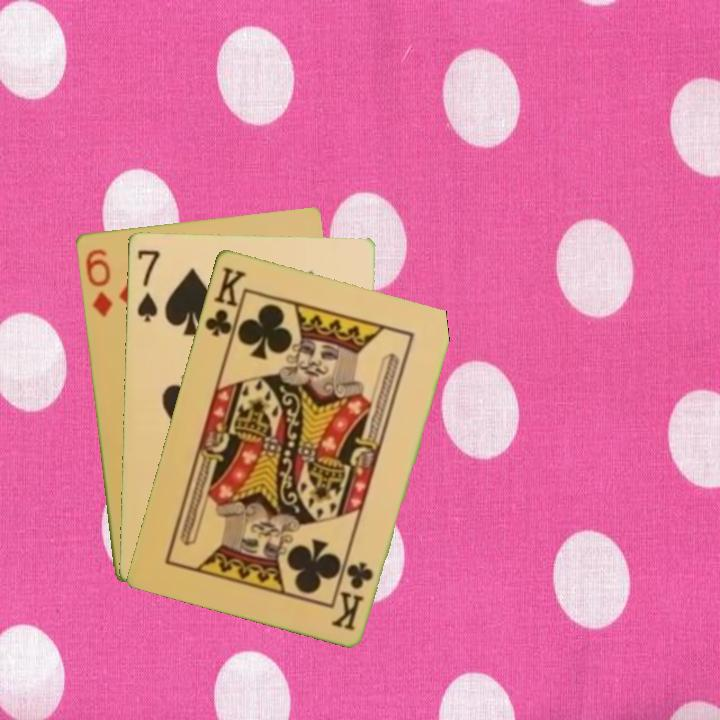6d: (81, 245, 115, 319)
7s: (133, 246, 162, 324)
Kc: (201, 262, 249, 346), (330, 557, 376, 633)
